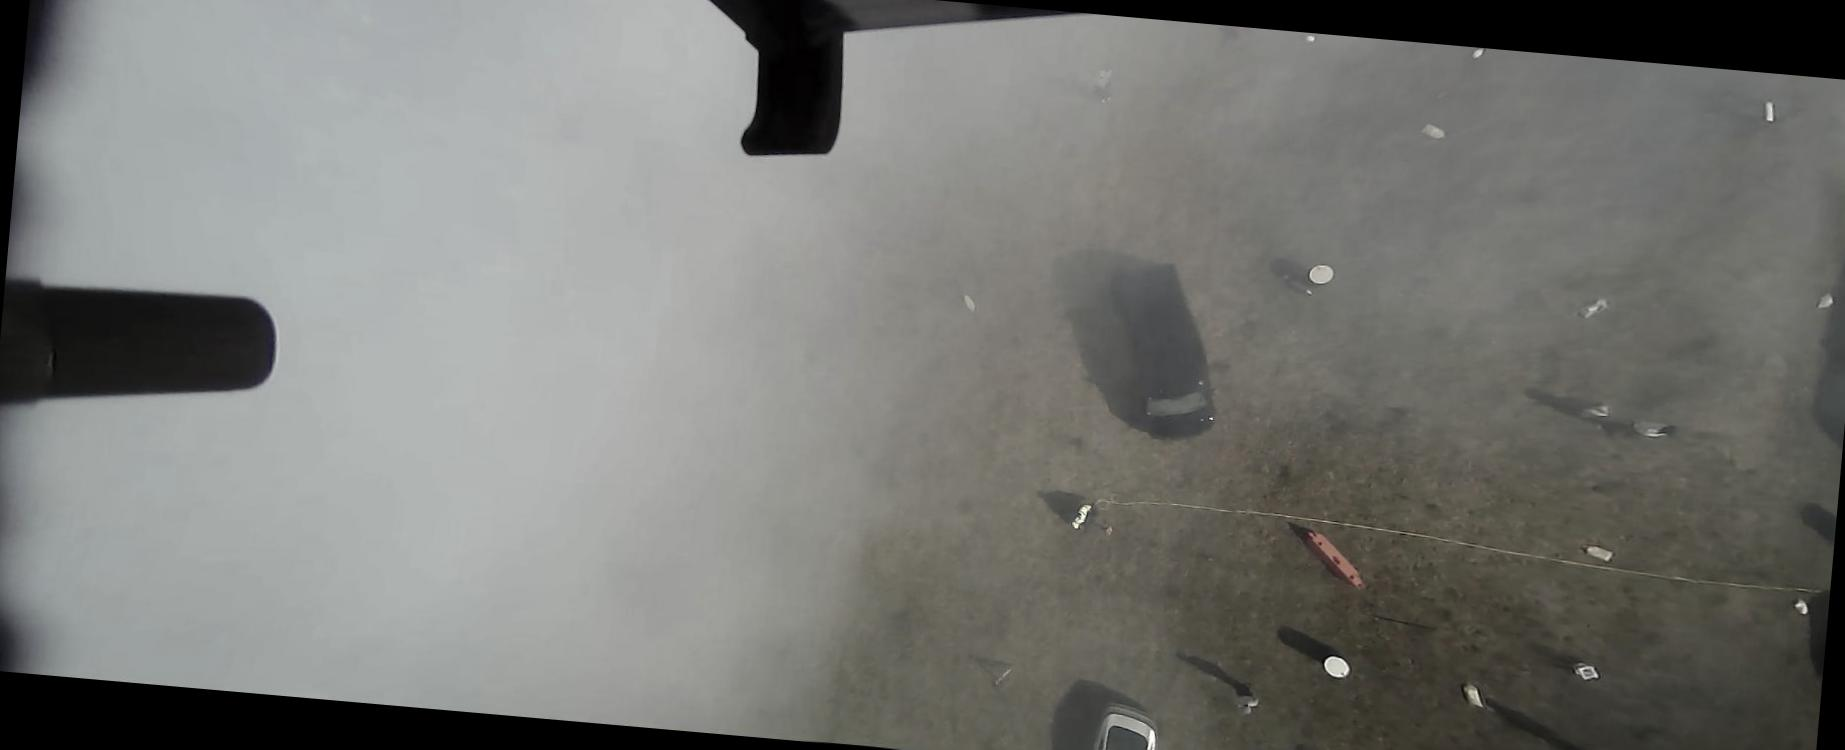vehicle: (1092, 256, 1230, 444), (1090, 702, 1165, 749)
